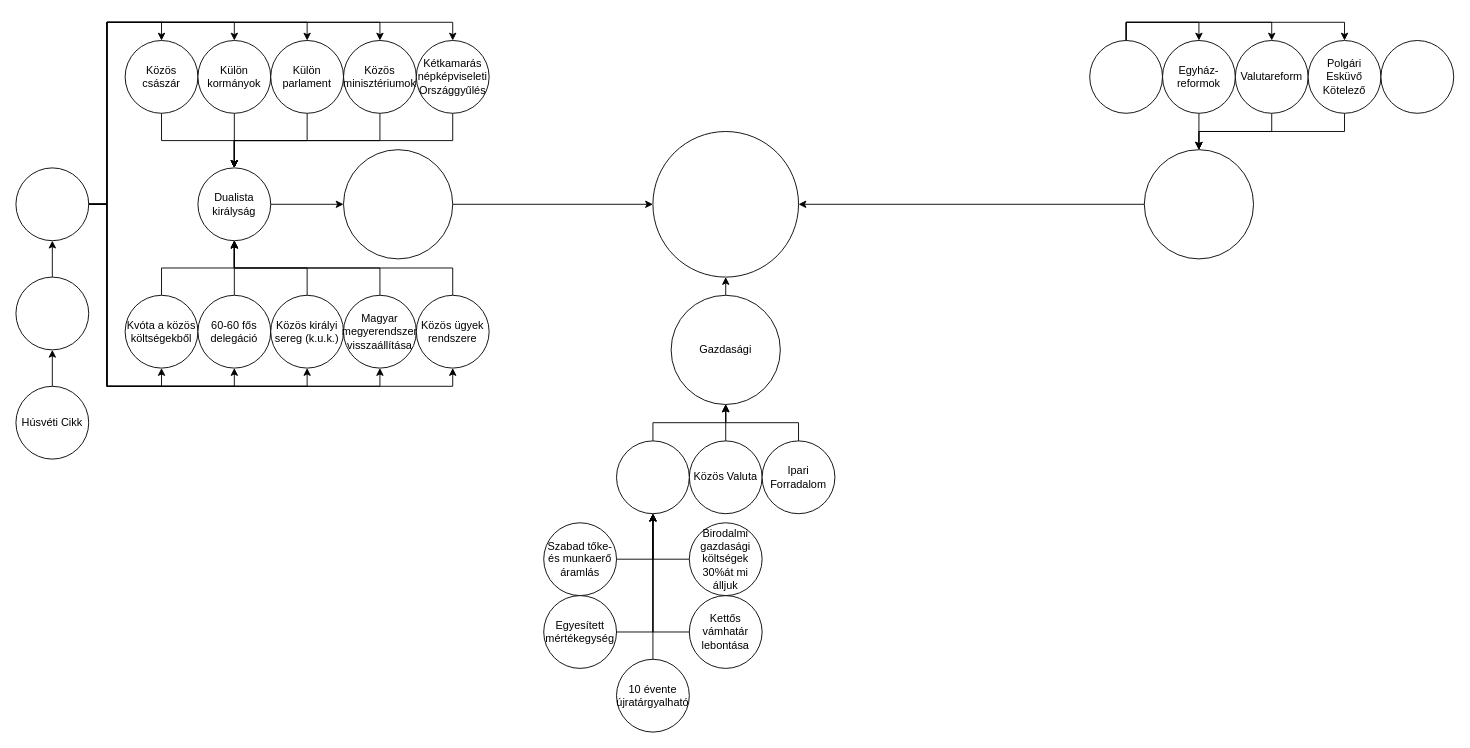
The diagram is 1470 pixels wide and 748 high, and some of its shapes have lost their labels. The centre of each missing label's shape, as x and y in pixels:
"Dualizmus" belongs at (x=725, y=204).
"Gazdasági kiegyezés" belongs at (x=652, y=477).
"Kiegyezés, 1867" belongs at (x=52, y=313).
"Társadalmi" belongs at (x=1198, y=204).
"Weckerle" belongs at (x=1126, y=76).
"Államszervezet" belongs at (x=398, y=204).
"Új Állam-szervezet" belongs at (x=52, y=204).
